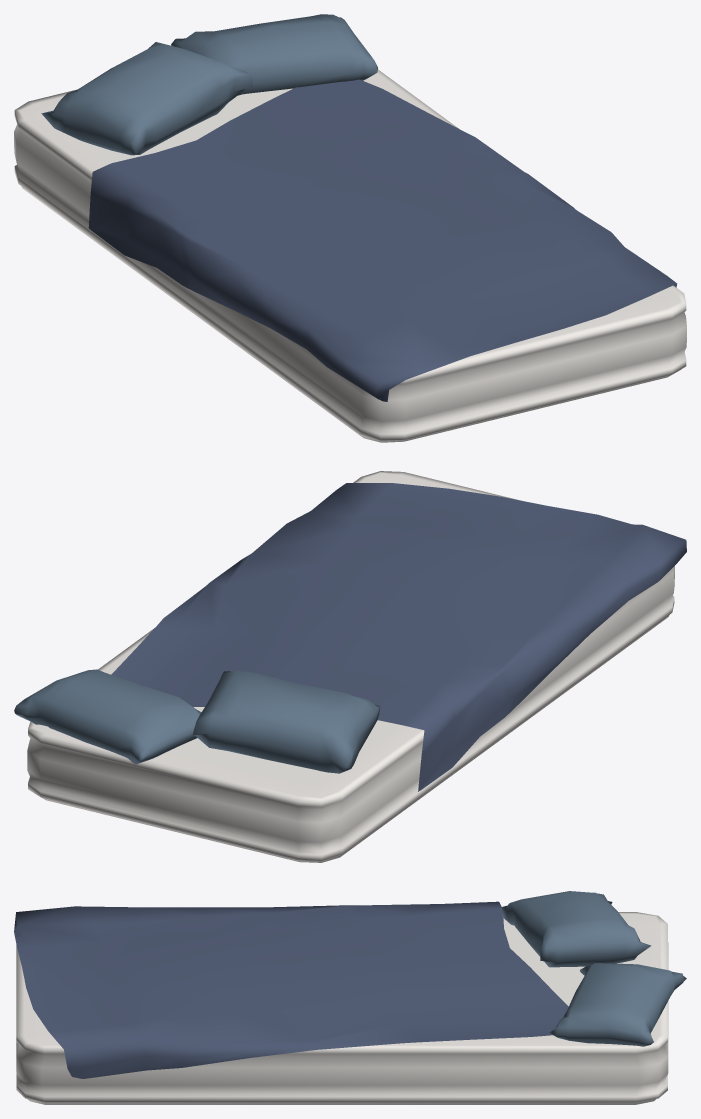
The model's file is Bed.fbx.
3 views of the same model, one above another, from view 1: azimuth 30°, elevation 25°; view 2: azimuth 150°, elevation 25°; view 3: azimuth 270°, elevation 25° (orthographic). The views are drawn at different scales.
Visible parts, largest first — view 1: Bed; view 2: Bed; view 3: Bed.
Part boxes in pixels (left/top/right/bottom): Bed: left=14, top=14, right=686, bottom=442; Bed: left=14, top=471, right=686, bottom=862; Bed: left=14, top=891, right=686, bottom=1104.
Bounding box in the file's own units: 152 × 53.62 × 298.
